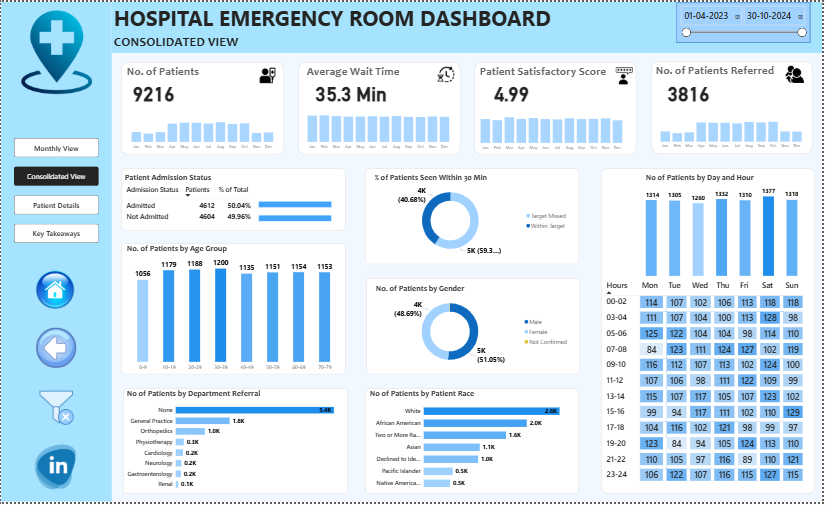

The page's visual inventory and layout, read from the dashboard file:
{"tool":"powerbi","page":{"name":"Consolidated View","canvas":[2300,1400],"ordinal":1},"visuals":[{"type":"shape","box":[0,0,310,1398.7],"z":0},{"type":"shape","box":[310.8,0,1988,142.8],"z":1000},{"type":"textbox","box":[310.8,0,1246,106.4],"z":2000},{"type":"textbox","box":[310.8,81.1,367.6,62.2],"z":3000},{"type":"shape","box":[336,168,456.4,260.4],"z":4000},{"type":"card","fields":{"Values":["Hospital ER_Data.No of Patients"]},"box":[336,198.8,182,106.4],"z":5000},{"type":"slicer","fields":{"Values":["Date Table.Date"]},"box":[1889.2,0,375.7,113.5],"z":6000},{"type":"textbox","box":[347.2,168,277.2,61.6],"z":7000},{"type":"columnChart","fields":{"Category":["Date Table.Month Name"],"Y":["Hospital ER_Data.No of Patients"]},"box":[347.2,296.2,434,125],"z":8000},{"type":"shape","box":[830.7,166.8,455,261],"z":9000},{"type":"shape","box":[1325.3,166.8,455,261],"z":10000},{"type":"shape","box":[1820,165.2,453.6,260.4],"z":11000},{"type":"textbox","box":[851.4,167.6,300,62.2],"z":12000},{"type":"card","fields":{"Values":["Hospital ER_Data.Avg Wait Time"]},"box":[831.6,198.8,296.8,106.4],"z":13000},{"type":"columnChart","fields":{"Category":["Date Table.Month Name"],"Y":["Avg(Hospital ER_Data.Patient Waittime)"]},"box":[840,296.2,434,125],"z":14000},{"type":"columnChart","fields":{"Category":["Date Table.Month Name"],"Y":["Hospital ER_Data.Patient Satisfactory Score"]},"box":[1324.4,299,434,125],"z":15000},{"type":"textbox","box":[1335.6,168,436.8,61.6],"z":16000},{"type":"card","fields":{"Values":["Hospital ER_Data.Patient Satisfactory Score"]},"box":[1324.4,198.8,210,106.4],"z":17000},{"type":"textbox","box":[1828.4,165.2,436.8,61.6],"z":18000},{"type":"card","fields":{"Values":["Hospital ER_Data.No of Patients Referred"]},"box":[1820,198.8,210,106.4],"z":19000},{"type":"columnChart","fields":{"Category":["Date Table.Month Name"],"Y":["Hospital ER_Data.No of Patients Referred"]},"box":[1829.7,297.3,432.4,124.3],"z":20000},{"type":"shape","box":[336,464.8,630,176.4],"z":21000},{"type":"pivotTable","title":"Patient Admission Status","fields":{"Rows":["Hospital ER_Data.Admission Status"],"Values":["Hospital ER_Data.No of Patients1","Hospital ER_Data.No of Patients"]},"box":[341.6,476,616,156.8],"z":22000},{"type":"barChart","fields":{"Category":["Hospital ER_Data.Admission Status"],"Y":["Hospital ER_Data.No of Patients"]},"box":[716.8,526.4,274.4,114.8],"z":23000},{"type":"shape","box":[336,674.8,630,368],"z":24000},{"type":"clusteredColumnChart","title":"No. of Patients by Age Group","fields":{"Category":["Hospital ER_Data.Age Group"],"Y":["Hospital ER_Data.No of Patients"]},"box":[347.2,674.8,610.4,366.8],"z":25000},{"type":"shape","box":[341.6,1080.8,630,296.8],"z":26000},{"type":"clusteredBarChart","fields":{"Category":["Hospital ER_Data.Department Referral"],"Y":["Hospital ER_Data.No of Patients"]},"box":[347.2,1080.8,618.8,296.8],"z":27000},{"type":"shape","box":[1019.2,464.8,600,270],"z":28000},{"type":"donutChart","title":"% of Patients Seen Within 30 Min","fields":{"Category":["Hospital ER_Data.Waittime"],"Y":["Hospital ER_Data.No of Patients"]},"box":[1041.6,476,554.4,243.6],"z":29000},{"type":"shape","box":[1020.8,772.8,600,270],"z":30000},{"type":"donutChart","title":"No. of Patients by Gender","fields":{"Y":["Hospital ER_Data.No of Patients"],"Category":["Hospital ER_Data.Patient Gender"]},"box":[1043.2,785.6,554.4,243.6],"z":31000},{"type":"shape","box":[1019.2,1080.8,599.2,296.8],"z":32000},{"type":"clusteredBarChart","fields":{"Y":["Hospital ER_Data.No of Patients"],"Category":["Hospital ER_Data.Patient Race"]},"box":[1027.6,1080.8,571.2,296.8],"z":33000},{"type":"shape","box":[1680,464.8,599.2,912.8],"z":34000},{"type":"pivotTable","fields":{"Rows":["Hospital ER_Data.Waittime Interval"],"Columns":["Date Table.Day Name"],"Values":["Hospital ER_Data.No of Patients"]},"box":[1685.6,772.8,588,585.2],"z":35000},{"type":"columnChart","title":"No of Patients by Day and Hour","fields":{"Category":["Date Table.Day Name"],"Y":["Hospital ER_Data.No of Patients"]},"box":[1800.4,476,436.8,296.8],"z":36000},{"type":"image","box":[32.5,15,245,252.5],"z":37000},{"type":"image","box":[707.5,172.5,75,62.5],"z":38000},{"type":"image","box":[1215,177.5,60,52.5],"z":39000},{"type":"image","box":[1715,172.5,57.5,65],"z":40000},{"type":"image","box":[2182.5,172.5,82.5,57.5],"z":41000},{"type":"actionButton","box":[89.2,735.1,129.7,124.3],"z":42000},{"type":"image","box":[78.4,735.1,148.6,137.8],"z":43000},{"type":"pageNavigator","box":[35.1,381.1,237.8,294.6],"z":44000},{"type":"image","box":[91.9,908.1,124.3,121.6],"z":45000},{"type":"image","box":[91.9,1081.1,124.3,108.1],"z":46000},{"type":"image","box":[67.6,1227,170.3,151.4],"z":47000}]}

Visuals, with their boxes in screenshot pixels (x1, y1, x2, y2), scaled from the page's 2300x1400 canvas onto the 825x505 screenshot:
shape: bbox(0, 0, 111, 504)
shape: bbox(111, 0, 824, 52)
textbox: bbox(111, 0, 558, 38)
textbox: bbox(111, 29, 243, 52)
shape: bbox(121, 61, 284, 155)
card - Hospital ER_Data.No of Patients: bbox(121, 72, 186, 110)
slicer - Date Table.Date: bbox(678, 0, 812, 41)
textbox: bbox(125, 61, 224, 83)
columnChart - Date Table.Month Name x Hospital ER_Data.No of Patients: bbox(125, 107, 280, 152)
shape: bbox(298, 60, 461, 154)
shape: bbox(475, 60, 639, 154)
shape: bbox(653, 60, 816, 154)
textbox: bbox(305, 60, 413, 83)
card - Hospital ER_Data.Avg Wait Time: bbox(298, 72, 405, 110)
columnChart - Date Table.Month Name x Avg(Hospital ER_Data.Patient Waittime): bbox(301, 107, 457, 152)
columnChart - Date Table.Month Name x Hospital ER_Data.Patient Satisfactory Score: bbox(475, 108, 631, 153)
textbox: bbox(479, 61, 636, 83)
card - Hospital ER_Data.Patient Satisfactory Score: bbox(475, 72, 550, 110)
textbox: bbox(656, 60, 813, 82)
card - Hospital ER_Data.No of Patients Referred: bbox(653, 72, 728, 110)
columnChart - Date Table.Month Name x Hospital ER_Data.No of Patients Referred: bbox(656, 107, 811, 152)
shape: bbox(121, 168, 346, 231)
"Patient Admission Status" pivotTable: bbox(123, 172, 343, 228)
barChart - Hospital ER_Data.Admission Status x Hospital ER_Data.No of Patients: bbox(257, 190, 356, 231)
shape: bbox(121, 243, 346, 376)
"No. of Patients by Age Group" clusteredColumnChart: bbox(125, 243, 343, 376)
shape: bbox(123, 390, 349, 497)
clusteredBarChart - Hospital ER_Data.Department Referral x Hospital ER_Data.No of Patients: bbox(125, 390, 346, 497)
shape: bbox(366, 168, 581, 265)
"% of Patients Seen Within 30 Min" donutChart: bbox(374, 172, 572, 260)
shape: bbox(366, 279, 581, 376)
"No. of Patients by Gender" donutChart: bbox(374, 283, 573, 371)
shape: bbox(366, 390, 581, 497)
clusteredBarChart - Hospital ER_Data.No of Patients x Hospital ER_Data.Patient Race: bbox(369, 390, 573, 497)
shape: bbox(603, 168, 818, 497)
pivotTable - Hospital ER_Data.Waittime Interval x Date Table.Day Name: bbox(605, 279, 816, 490)
"No of Patients by Day and Hour" columnChart: bbox(646, 172, 802, 279)
image: bbox(12, 5, 100, 96)
image: bbox(254, 62, 281, 85)
image: bbox(436, 64, 457, 83)
image: bbox(615, 62, 636, 86)
image: bbox(783, 62, 812, 83)
actionButton: bbox(32, 265, 79, 310)
image: bbox(28, 265, 81, 315)
pageNavigator: bbox(13, 137, 98, 244)
image: bbox(33, 328, 78, 371)
image: bbox(33, 390, 78, 429)
image: bbox(24, 443, 85, 497)
